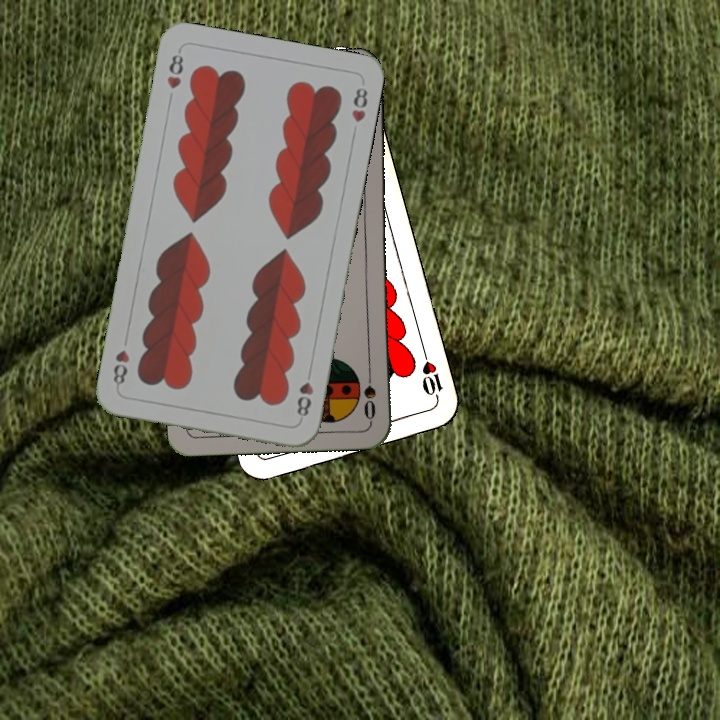H10: (418, 347, 445, 405)
H8: (292, 365, 316, 419), (163, 46, 186, 92)
SO: (359, 364, 379, 423)
